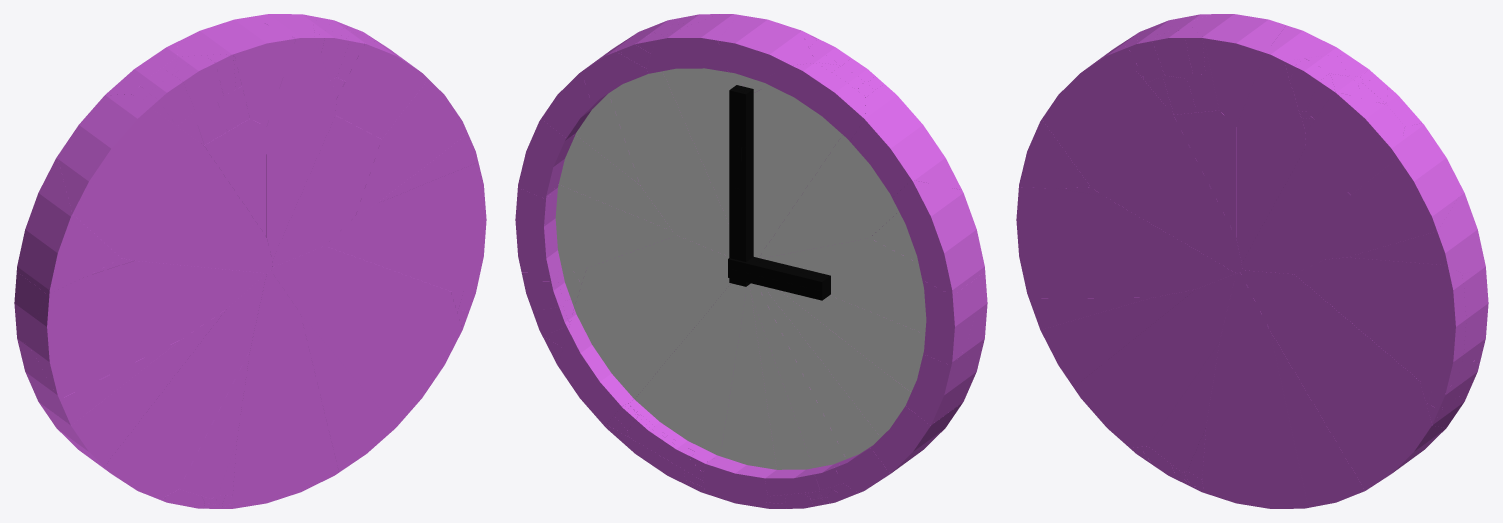
The model's file is timecell(1).fbx.
3 renders of one model, left to right at view 1: azimuth 30°, elevation 25°; view 2: azimuth 150°, elevation 25°; view 3: azimuth 330°, elevation 25°, orthographic.
Visible parts, largest first — view 1: 圓柱體_cell.035, 圓柱體_cell.014, 圓柱體_cell.017, 圓柱體_cell.043, 圓柱體_cell.036, 圓柱體_cell.033, 圓柱體_cell.024, 圓柱體_cell.009, 圓柱體_cell, 圓柱體_cell.022, 圓柱體_cell.005, 圓柱體_cell.034 (+14 smaller); view 2: 圓柱體_cell.014, 圓柱體_cell.035, 圓柱體_cell.009, 圓柱體_cell.015, 圓柱體_cell.038, 圓柱體_cell.039, 圓柱體_cell.019, 圓柱體_cell.024, 圓柱體_cell.027, 圓柱體_cell.022, 圓柱體_cell.030, 圓柱體_cell (+18 smaller); view 3: 圓柱體_cell.035, 圓柱體_cell.014, 圓柱體_cell.017, 圓柱體_cell.043, 圓柱體_cell.033, 圓柱體_cell.036, 圓柱體_cell.024, 圓柱體_cell.005, 圓柱體_cell.009, 圓柱體_cell.026, 圓柱體_cell.039, 圓柱體_cell.022 (+15 smaller).
Boxes of the visible parts, <box> form: 圓柱體_cell.035: <box>57,94,272,273</box>; 圓柱體_cell.014: <box>271,246,462,427</box>; 圓柱體_cell.017: <box>29,260,266,399</box>; 圓柱體_cell.043: <box>232,270,338,508</box>; 圓柱體_cell.036: <box>101,274,266,499</box>; 圓柱體_cell.033: <box>325,162,486,291</box>; 圓柱體_cell.024: <box>252,14,336,259</box>; 圓柱體_cell.009: <box>272,28,393,266</box>; 圓柱體_cell: <box>16,156,121,293</box>; 圓柱體_cell.022: <box>39,309,225,466</box>; 圓柱體_cell.005: <box>355,49,467,215</box>; 圓柱體_cell.034: <box>177,16,295,126</box>; 圓柱體_cell.014: <box>557,235,730,425</box>; 圓柱體_cell.035: <box>759,84,961,258</box>; 圓柱體_cell.009: <box>581,48,729,256</box>; 圓柱體_cell.015: <box>753,63,865,257</box>; 圓柱體_cell.038: <box>762,238,982,365</box>; 圓柱體_cell.039: <box>629,283,746,459</box>; 圓柱體_cell.019: <box>515,184,676,272</box>; 圓柱體_cell.024: <box>646,14,743,223</box>; 圓柱體_cell.027: <box>780,290,974,425</box>; 圓柱體_cell.022: <box>764,286,962,473</box>; 圓柱體_cell.030: <box>702,285,776,507</box>; 圓柱體_cell: <box>870,180,984,295</box>; 圓柱體_cell.035: <box>1042,32,1242,273</box>; 圓柱體_cell.014: <box>1240,270,1445,490</box>; 圓柱體_cell.017: <box>1016,187,1235,298</box>; 圓柱體_cell.043: <box>1202,272,1308,508</box>; 圓柱體_cell.033: <box>1294,257,1466,393</box>; 圓柱體_cell.036: <box>1073,273,1235,447</box>; 圓柱體_cell.024: <box>1236,25,1347,262</box>; 圓柱體_cell.005: <box>1325,123,1462,259</box>; 圓柱體_cell.009: <box>1241,86,1422,274</box>; 圓柱體_cell.026: <box>1305,91,1404,194</box>; 圓柱體_cell.039: <box>1270,331,1364,507</box>; 圓柱體_cell.022: <box>1040,289,1195,387</box>.
Bounding box in the file's own units: 2281 × 2281 × 293.
